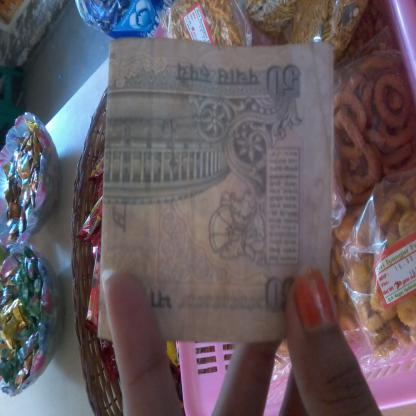Old50Back: (98, 37, 335, 344)
